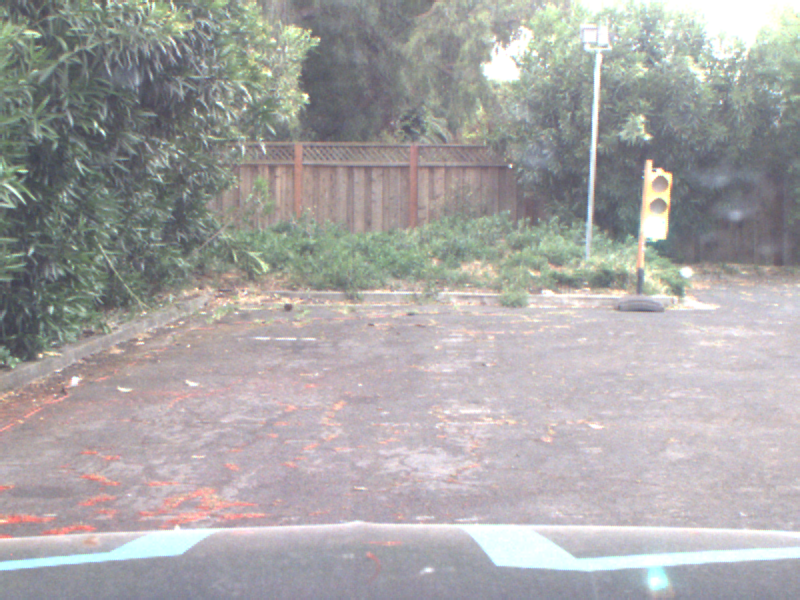Green: (645, 167, 670, 242)
